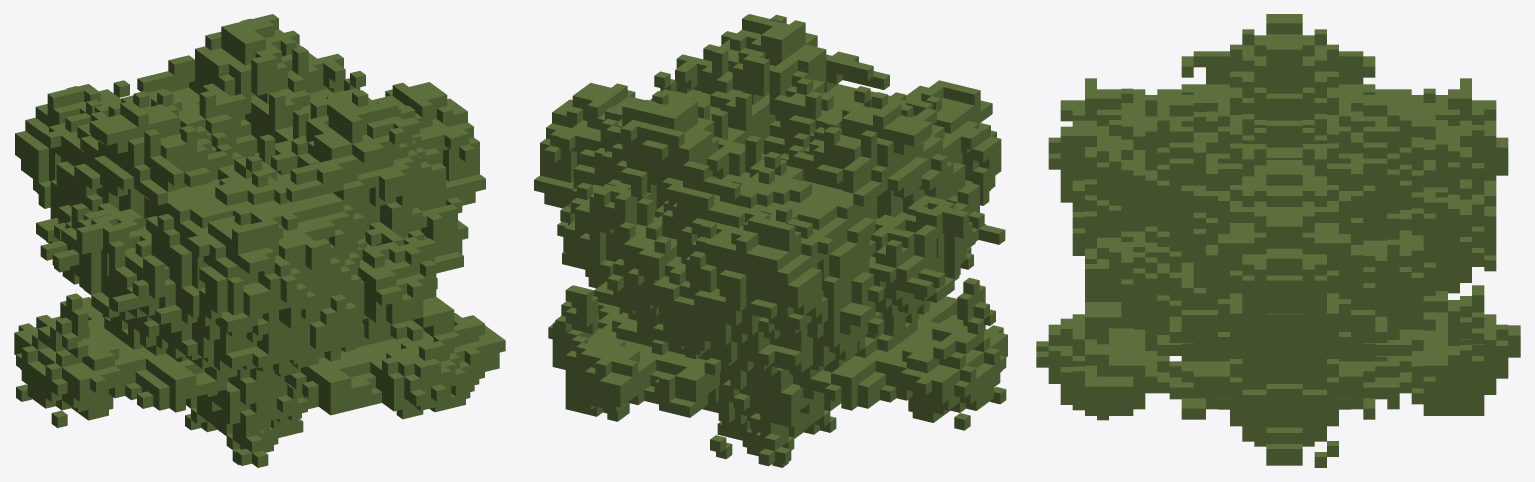
Rendered from good-1.obj.
3 renders of one model, left to right at view 1: azimuth 30°, elevation 25°; view 2: azimuth 150°, elevation 25°; view 3: azimuth 270°, elevation 25°, orthographic.
Size of the model in its own units: 4.1 by 3.4 by 4.
Materials: 1 (1 with a texture image).
